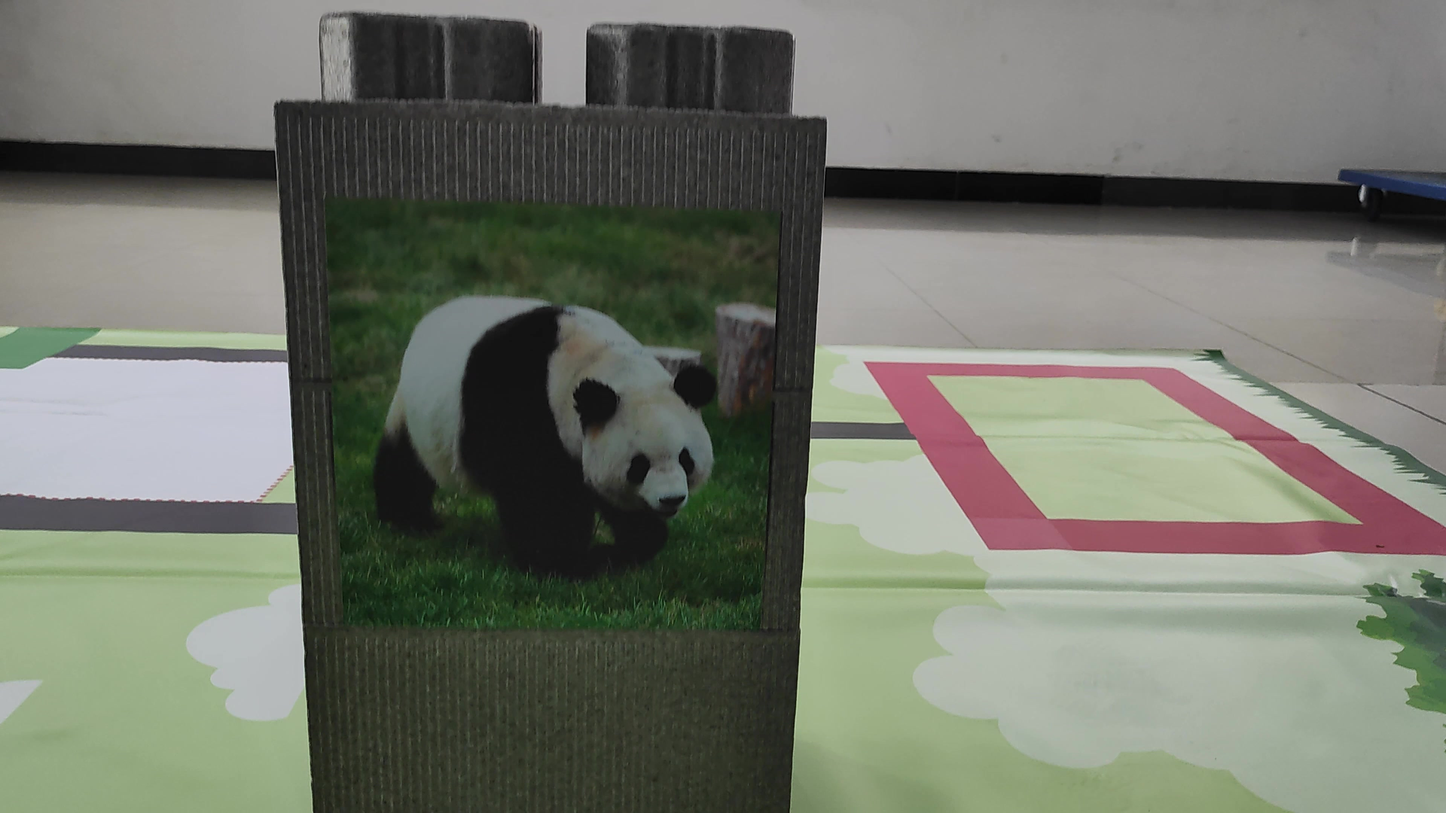panda: (343, 265, 719, 617)
